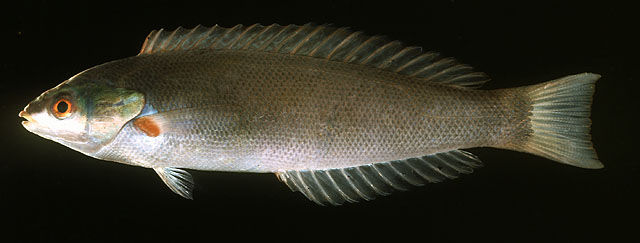fish: (19, 25, 605, 207)
